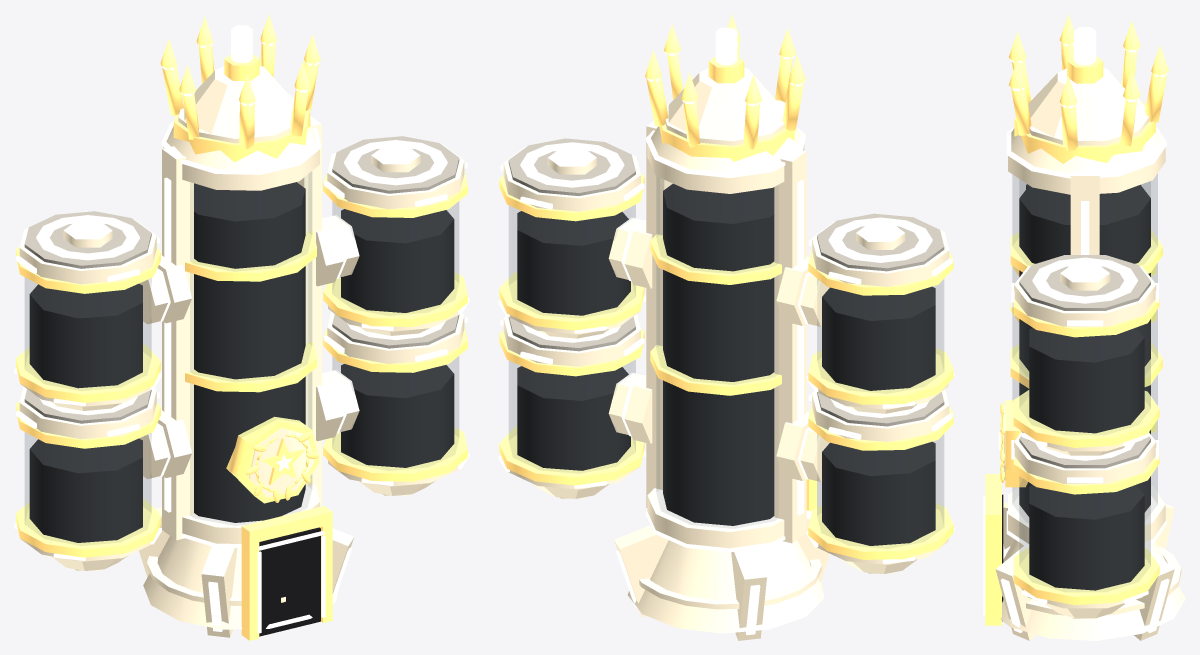
Rendered from Vat_Graduate_T4.glb.
3 views of the same model, side by side, from view 1: azimuth 30°, elevation 25°; view 2: azimuth 150°, elevation 25°; view 3: azimuth 270°, elevation 25° (orthographic).
Visible parts, largest first — view 1: Vat_Graduate_T4; view 2: Vat_Graduate_T4; view 3: Vat_Graduate_T4.
Boxes of the visible parts, <box> form: Vat_Graduate_T4: <box>14,14,469,640</box>; Vat_Graduate_T4: <box>498,14,954,640</box>; Vat_Graduate_T4: <box>983,14,1185,640</box>.
Size of the model in its own units: 7.33 by 9.22 by 2.92.
